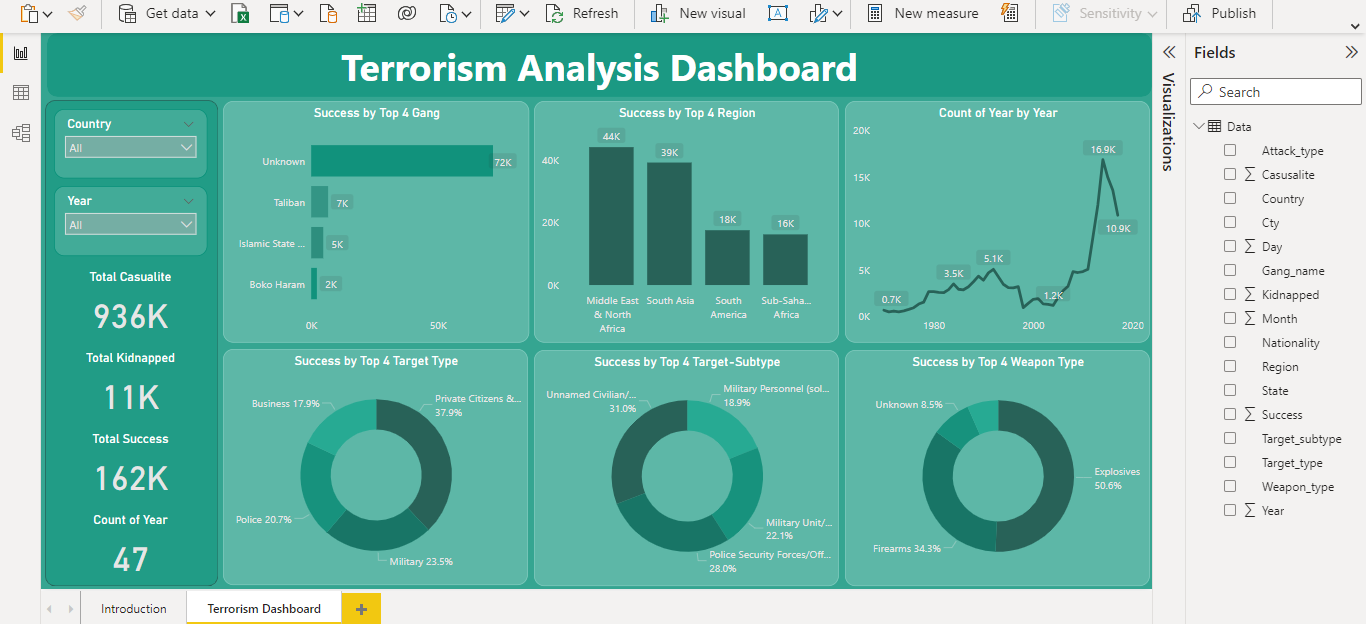

The dashboard page shown, as its layout file describes it:
{"tool":"powerbi","page":{"name":"Terrorism Dashboard","canvas":[1600,800],"ordinal":1},"visuals":[{"type":"shape","box":[5.2,96.3,249.5,700.2],"z":0},{"type":"shape","box":[8.6,0,1591.4,92.2],"z":1000},{"type":"card","title":"Total Casualite","fields":{"Values":["Sum(Data.Casusalite)"]},"box":[19.2,339.8,220,105],"z":2000},{"type":"card","title":"Total Kidnapped","fields":{"Values":["Sum(Data.Kidnapped)"]},"box":[19.2,456.6,220,105],"z":3000},{"type":"card","title":"Total Success","fields":{"Values":["Sum(Data.Success)"]},"box":[19.2,573.4,220,105],"z":4000},{"type":"card","title":"Count of Year","fields":{"Values":["Count(Data.Year)"]},"box":[19.2,690.2,220,105],"z":5000},{"type":"slicer","title":"Country","fields":{"Values":["Data.Country"]},"box":[19.2,108.8,220.8,100],"z":6000},{"type":"slicer","title":"Year","fields":{"Values":["Data.Year"]},"box":[19.2,220.8,220.8,100.8],"z":7000},{"type":"lineChart","fields":{"Category":["Data.Year"],"Y":["CountNonNull(Data.Year)"]},"box":[1157.5,97.6,439.4,348],"z":8000},{"type":"barChart","title":"Success by Top 4 Gang ","fields":{"Category":["Data.Gang_name"],"Y":["Sum(Data.Success)"]},"box":[261.4,97.6,440.9,348],"z":9000},{"type":"columnChart","title":"Success by Top 4  Region","fields":{"Y":["Sum(Data.Success)"],"Category":["Data.Region"]},"box":[710.2,97.6,439.4,348],"z":10000},{"type":"donutChart","title":"Success by Top 4 Target Type","fields":{"Y":["Sum(Data.Success)"],"Category":["Data.Target_type"]},"box":[261.4,455.1,439.4,340.2],"z":11000},{"type":"donutChart","title":"Success by Top 4 Target-Subtype","fields":{"Y":["Sum(Data.Success)"],"Series":["Data.Target_subtype"]},"box":[710.2,456.7,439.4,340.2],"z":12000},{"type":"donutChart","title":"Success by Top 4 Weapon Type","fields":{"Y":["Sum(Data.Success)"],"Category":["Data.Weapon_type"]},"box":[1157.5,456.7,439.4,340],"z":13000}]}

Visuals, with their boxes on the page's 1600x800 design canvas (x1, y1, x2, y2). These are canvas units, not pixel positions in the 1366x624 screenshot, which may show the page scaled, cropped or inside an application window:
shape: BBox(5, 96, 255, 796)
shape: BBox(9, 0, 1600, 92)
"Total Casualite" card: BBox(19, 340, 239, 445)
"Total Kidnapped" card: BBox(19, 457, 239, 562)
"Total Success" card: BBox(19, 573, 239, 678)
"Count of Year" card: BBox(19, 690, 239, 795)
"Country" slicer: BBox(19, 109, 240, 209)
"Year" slicer: BBox(19, 221, 240, 322)
lineChart - Data.Year x CountNonNull(Data.Year): BBox(1158, 98, 1597, 446)
"Success by Top 4 Gang " barChart: BBox(261, 98, 702, 446)
"Success by Top 4  Region" columnChart: BBox(710, 98, 1150, 446)
"Success by Top 4 Target Type" donutChart: BBox(261, 455, 701, 795)
"Success by Top 4 Target-Subtype" donutChart: BBox(710, 457, 1150, 797)
"Success by Top 4 Weapon Type" donutChart: BBox(1158, 457, 1597, 797)
